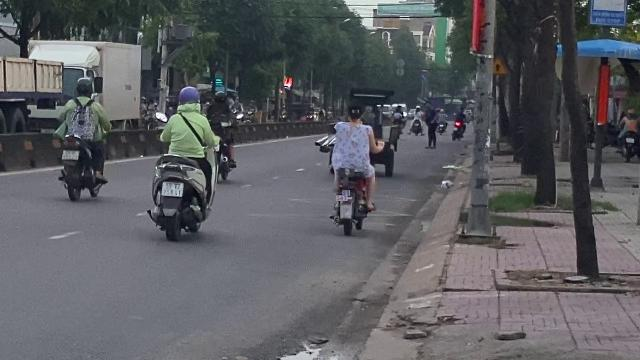helmet: (176, 86, 200, 110), (74, 77, 95, 97)
licenseplate: (161, 182, 183, 197), (62, 150, 78, 158)
motorcyclist: (145, 84, 219, 240), (323, 98, 381, 236), (52, 76, 108, 200)
nohelmet: (345, 100, 367, 124)
